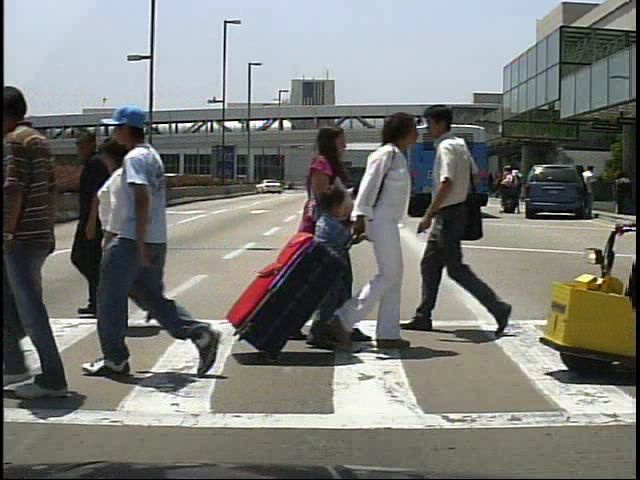person: (106, 105, 214, 388), (403, 99, 522, 346), (335, 116, 432, 367), (294, 120, 365, 358), (88, 139, 153, 333), (67, 128, 127, 323), (300, 181, 350, 319), (582, 164, 602, 218), (498, 166, 516, 219), (505, 165, 524, 215)
